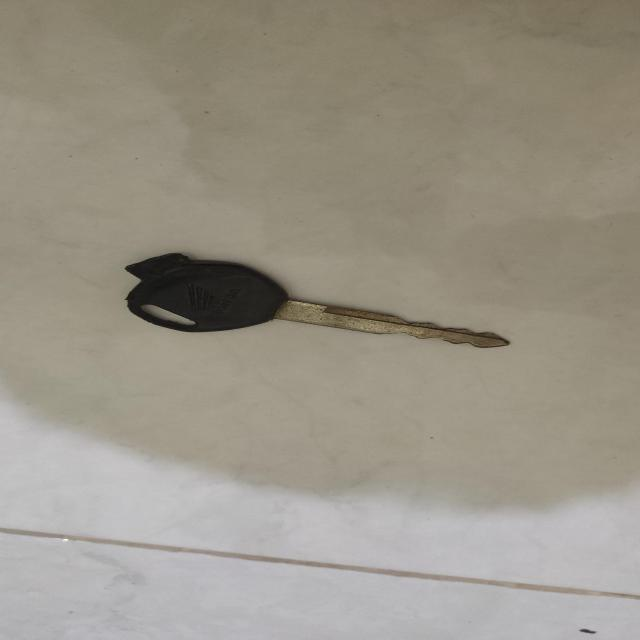kunci_motor: (101, 240, 527, 366)
